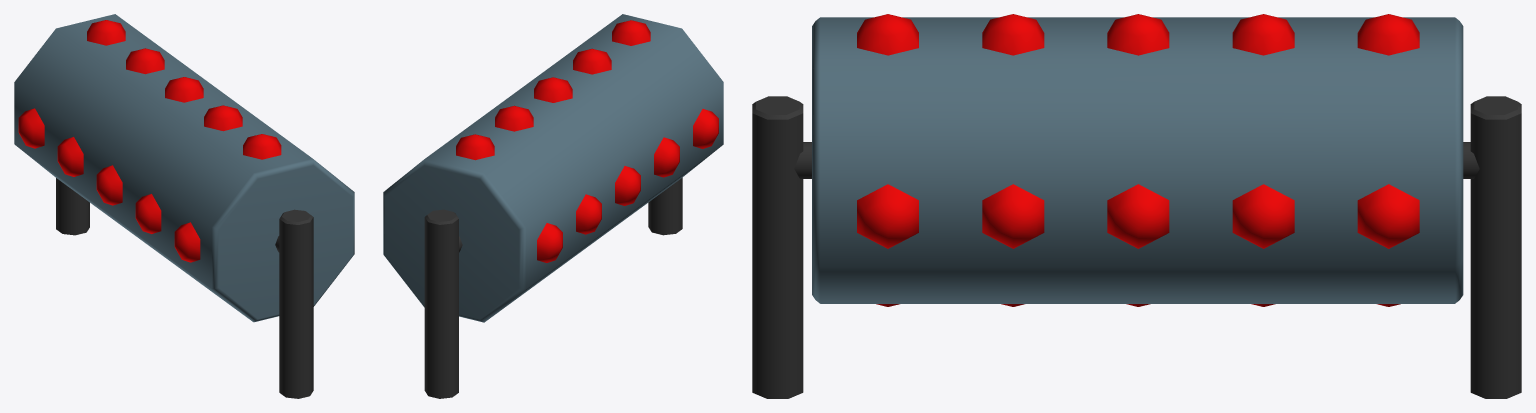
Rendered from trap_trugaingang.fbx.
3 views of the same model, side by side, from view 1: azimuth 30°, elevation 25°; view 2: azimuth 150°, elevation 25°; view 3: azimuth 270°, elevation 25° (orthographic). The views are drawn at different scales.
Parts seen in each view (by area): view 1: xoay, chan; view 2: xoay, chan; view 3: xoay, chan.
Part boxes in pixels (box(x1,y1,x2,y2)): xoay: box(14, 14, 354, 322); chan: box(56, 178, 313, 398); xoay: box(383, 14, 723, 322); chan: box(424, 177, 682, 398); xoay: box(812, 14, 1463, 306); chan: box(752, 96, 1521, 398).
Size of the model in its own units: 104 by 133 by 248.
